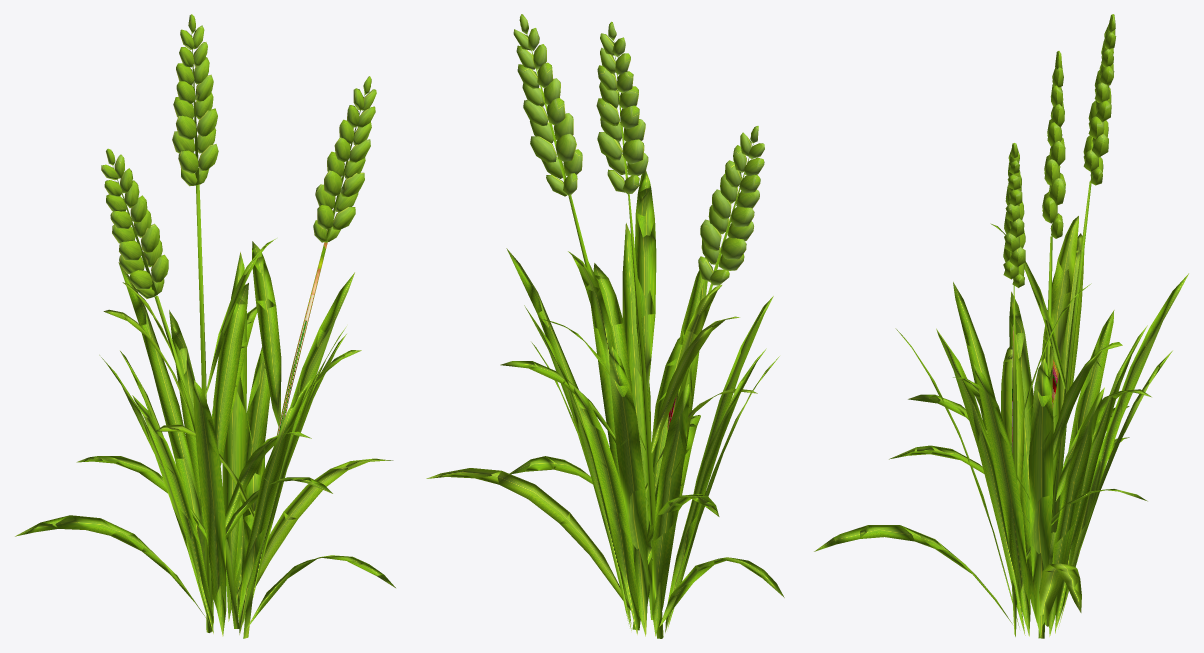
The model's file is NP_Wheat_Heading_LOD1.fbx.
3 renders of one model, left to right at view 1: azimuth 30°, elevation 25°; view 2: azimuth 150°, elevation 25°; view 3: azimuth 270°, elevation 25°, orthographic. The views are drawn at different scales.
Visible parts, largest first — view 1: NP_Wheat_Heading; view 2: NP_Wheat_Heading; view 3: NP_Wheat_Heading.
Part boxes in pixels (left/top/right/bottom): NP_Wheat_Heading: left=15, top=14, right=395, bottom=638; NP_Wheat_Heading: left=426, top=14, right=784, bottom=638; NP_Wheat_Heading: left=814, top=14, right=1188, bottom=638.
Size of the model in its own units: 80.23 by 127 by 69.92.
